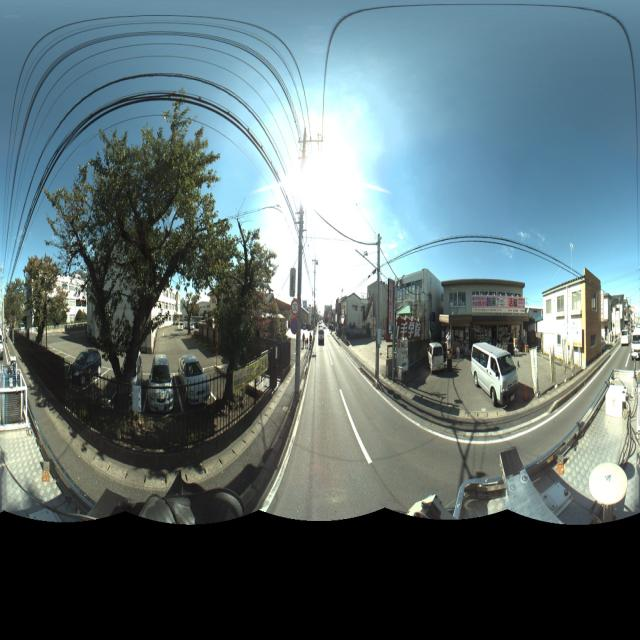b_1: (442, 284, 540, 361), (537, 272, 600, 376), (392, 268, 443, 368), (362, 280, 395, 354), (338, 295, 369, 346)
b_2: (90, 226, 184, 374), (188, 267, 299, 365), (18, 250, 98, 353)
